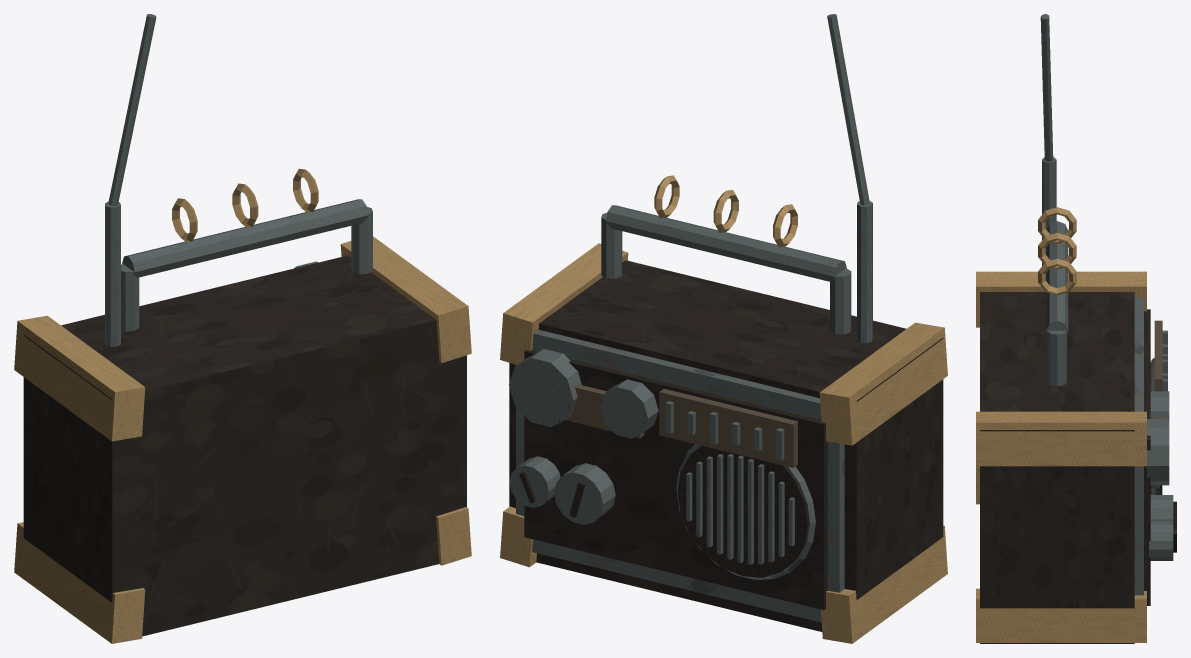
The model's file is pr-005_portable_radio__off.obj.
The picture shows the model from 3 angles, left to right: view 1: azimuth 30°, elevation 25°; view 2: azimuth 150°, elevation 25°; view 3: azimuth 270°, elevation 25°; orthographic projection. The views are drawn at different scales.
Visible parts, largest first — view 1: pr-005_portable_radio__off; view 2: pr-005_portable_radio__off; view 3: pr-005_portable_radio__off.
Boxes of the visible parts, left/top/right/bottom form: pr-005_portable_radio__off: left=14, top=14, right=471, bottom=643; pr-005_portable_radio__off: left=500, top=14, right=947, bottom=643; pr-005_portable_radio__off: left=976, top=14, right=1176, bottom=643.
Size of the model in its own units: 0.8928 by 1.38 by 0.494.
Materials: 4 (4 with a texture image).
